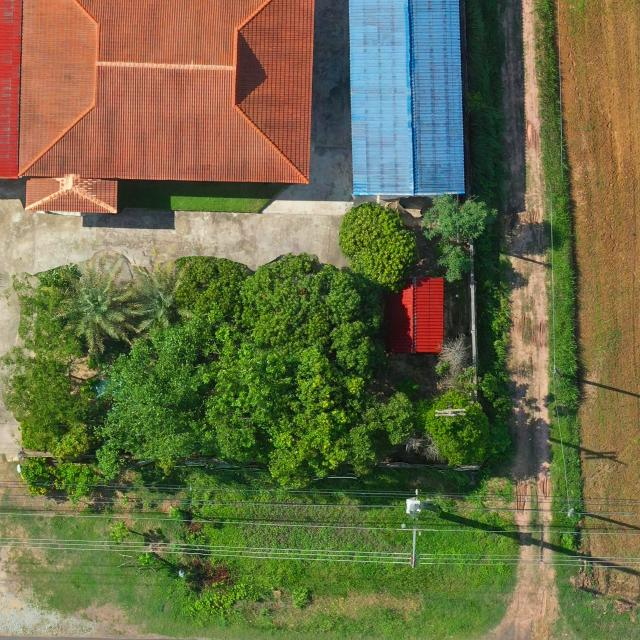Tree: (203, 320, 417, 492), (95, 318, 223, 486), (237, 252, 385, 374), (0, 340, 109, 460), (51, 251, 138, 356), (424, 388, 514, 472), (336, 200, 419, 290), (420, 194, 500, 285), (172, 253, 258, 331), (130, 249, 200, 339), (107, 520, 131, 546)
